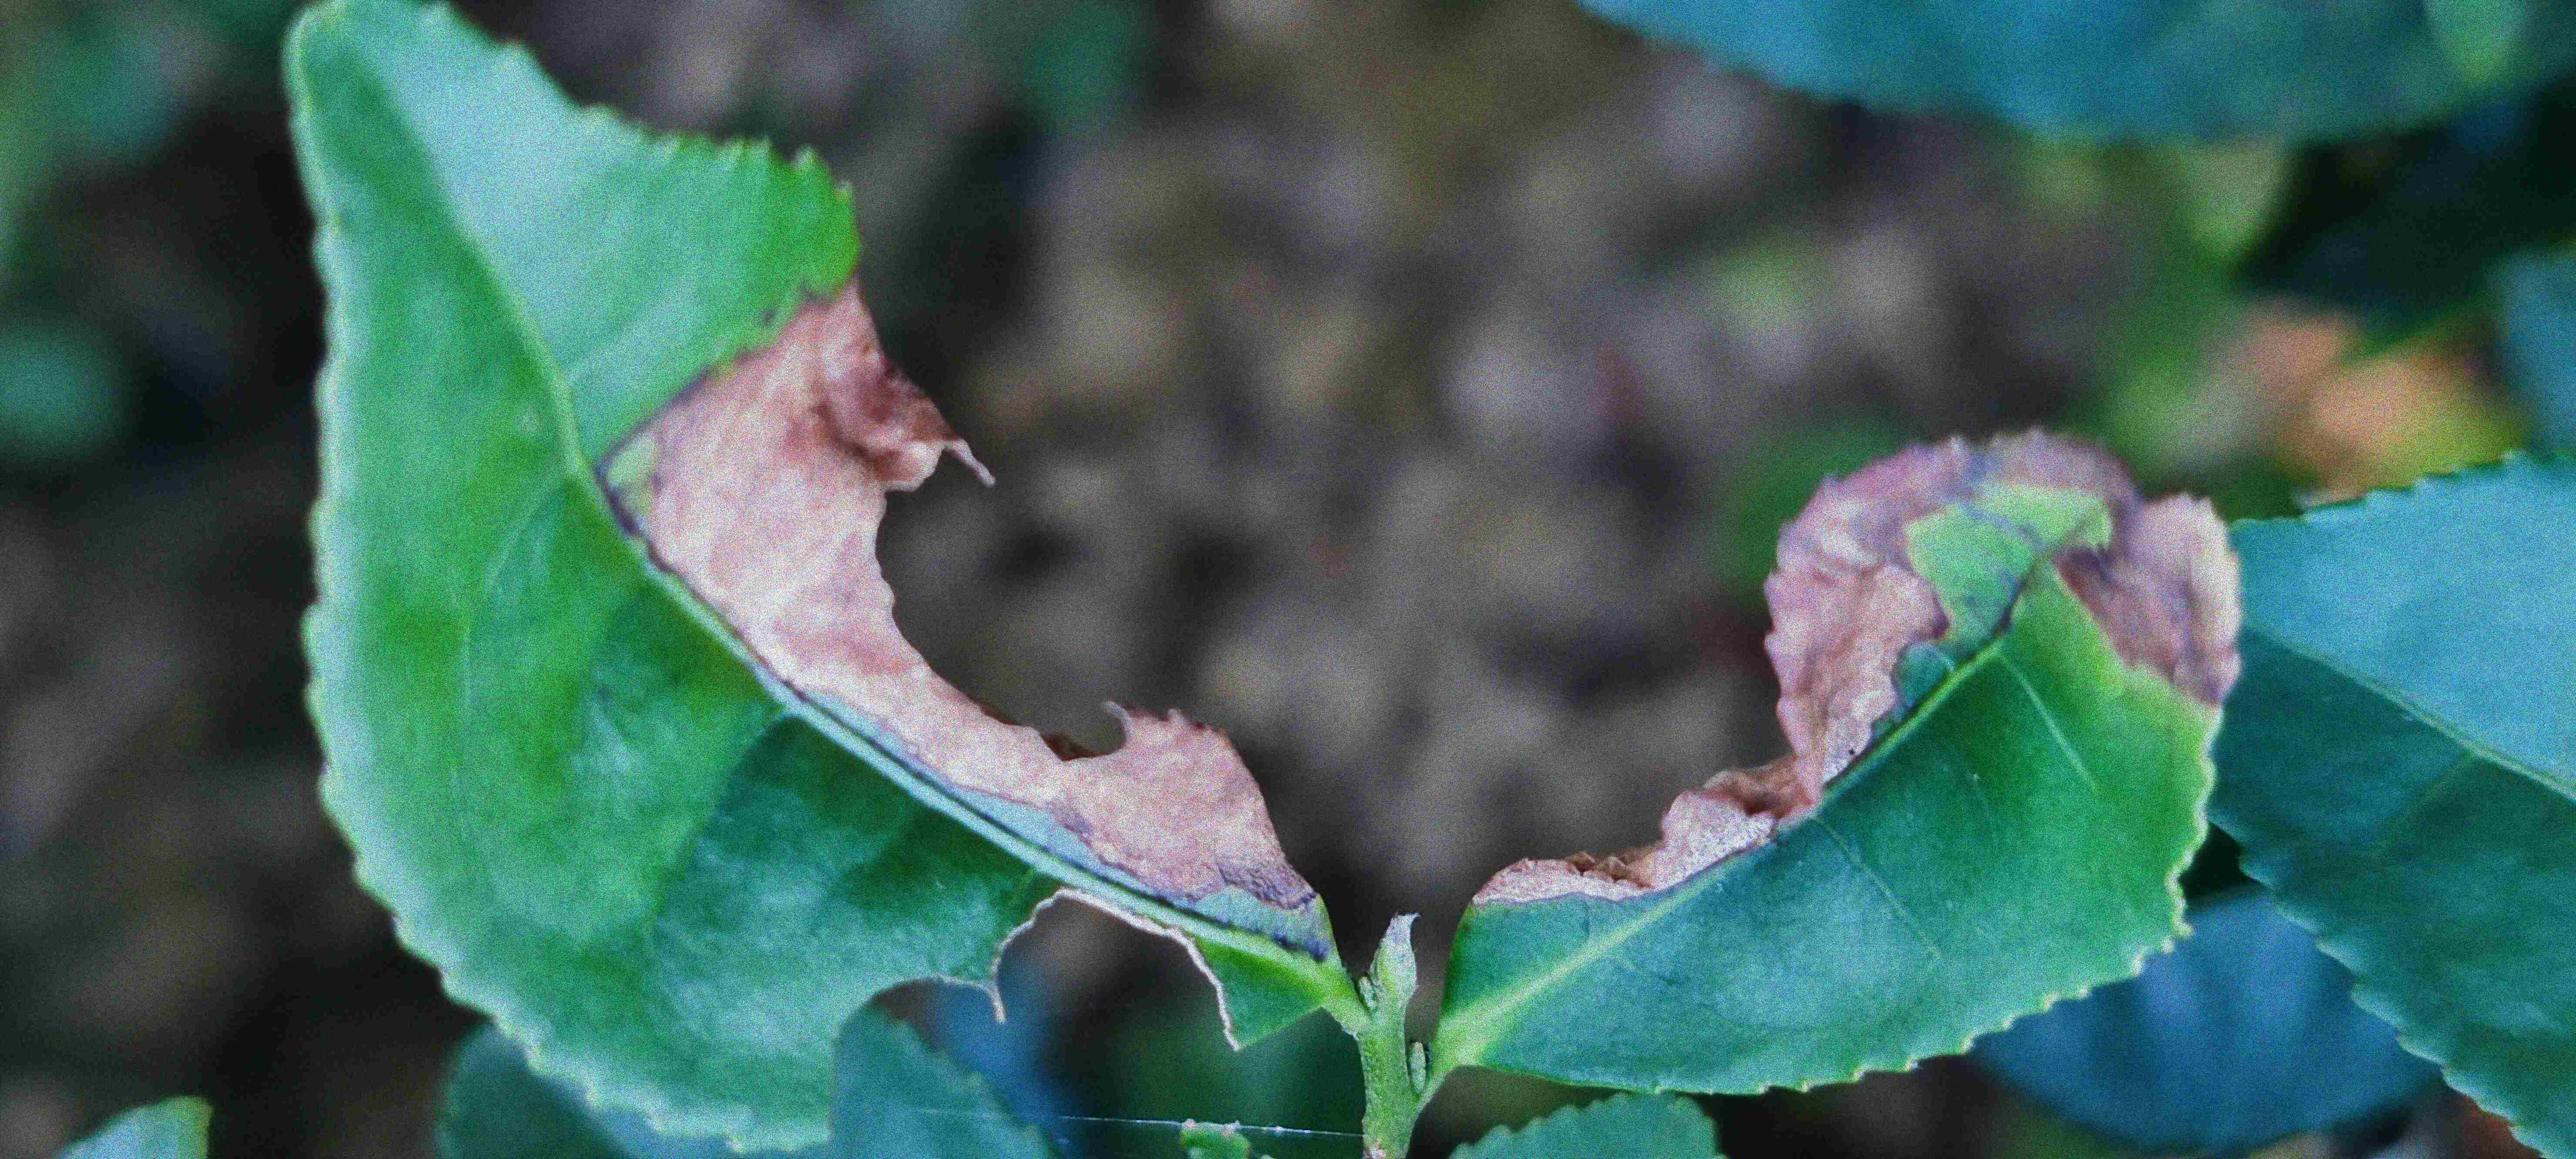tanju_high: (276, 7, 1345, 1151), (1441, 419, 2247, 1100)
